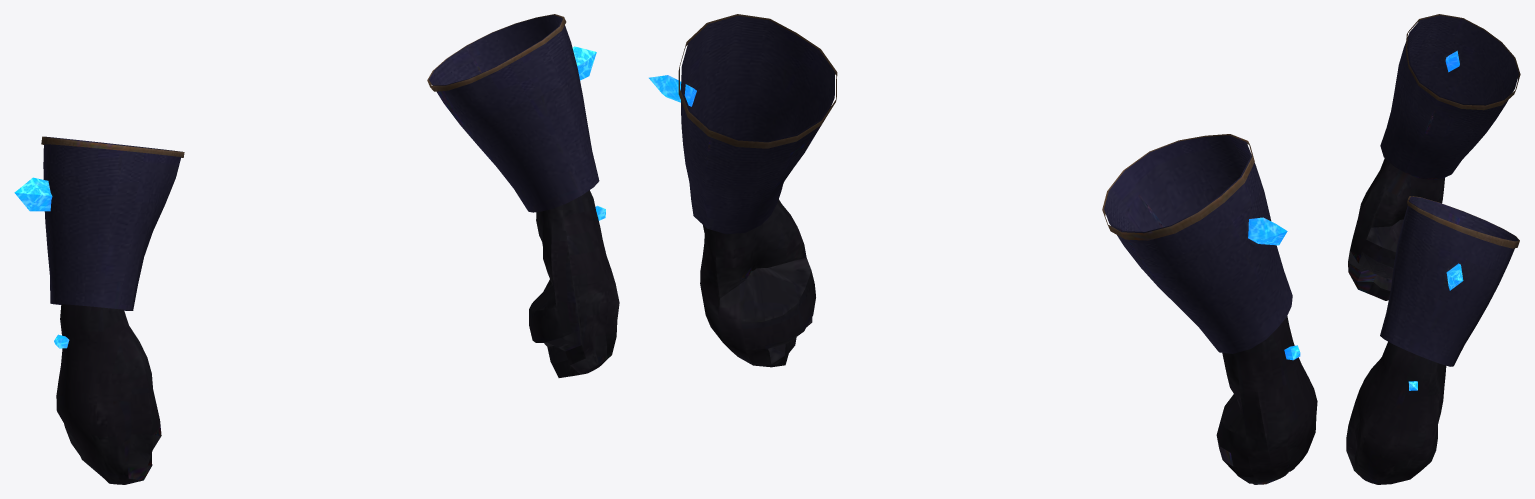
The model's file is Luvas_de_Tecido_nivel100.glb.
The picture shows the model from 3 angles, left to right: view 1: azimuth 30°, elevation 25°; view 2: azimuth 150°, elevation 25°; view 3: azimuth 270°, elevation 25°; orthographic projection. The views are drawn at different scales.
Visible parts, largest first — view 1: luvas_de_tecido_nivel100; view 2: luvas_de_tecido_nivel100; view 3: luvas_de_tecido_nivel100.
Boxes of the visible parts, x1=… form: luvas_de_tecido_nivel100: x1=14, y1=14, x2=619, y2=484; luvas_de_tecido_nivel100: x1=649, y1=14, x2=1317, y2=484; luvas_de_tecido_nivel100: x1=1346, y1=14, x2=1520, y2=484.
Size of the model in its own units: 0.7128 by 0.3873 by 0.2184.
1 material, 1 textured.
